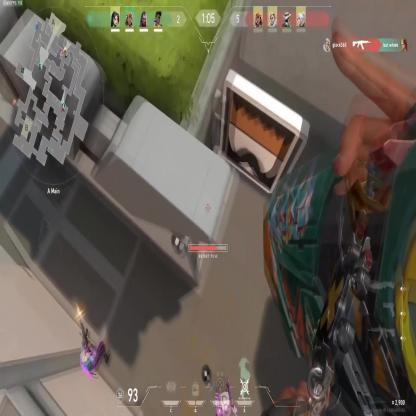enemy: (76, 328, 110, 378), (213, 388, 234, 416)
enemy_head: (80, 349, 87, 361)
